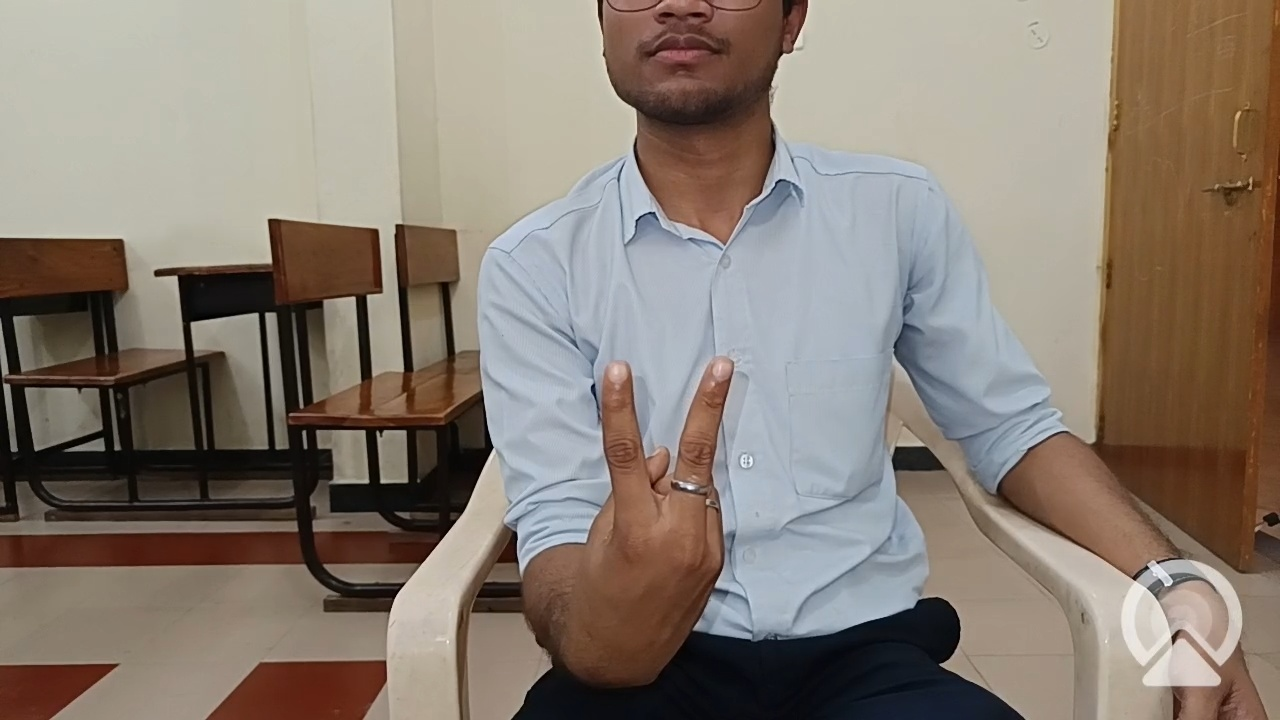V: (558, 346, 792, 661)
